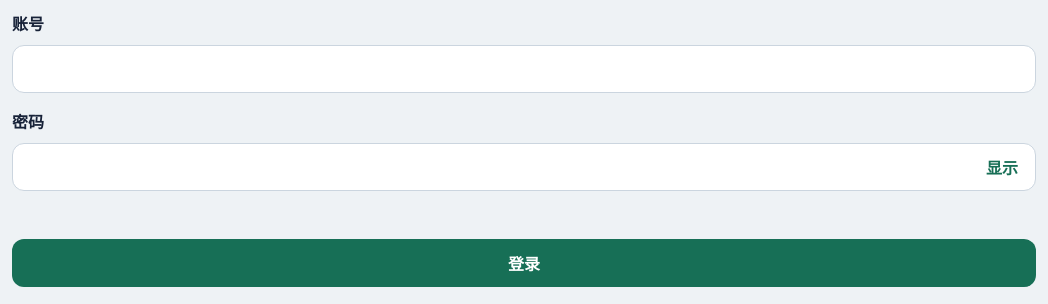
Test: LoginForm › renders the server error for status 401
The image size is (1048, 304).
Type "agent" into the field labelled "账号".
click(524, 69); type("agent")  # box [12,45,1036,93]
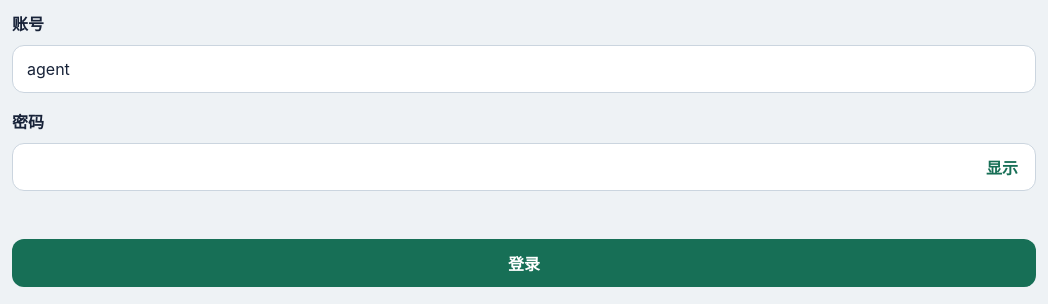
Type "password-123" into the password field labelled "密码".
click(524, 167); type("password-123")  # box [12,143,1036,191]
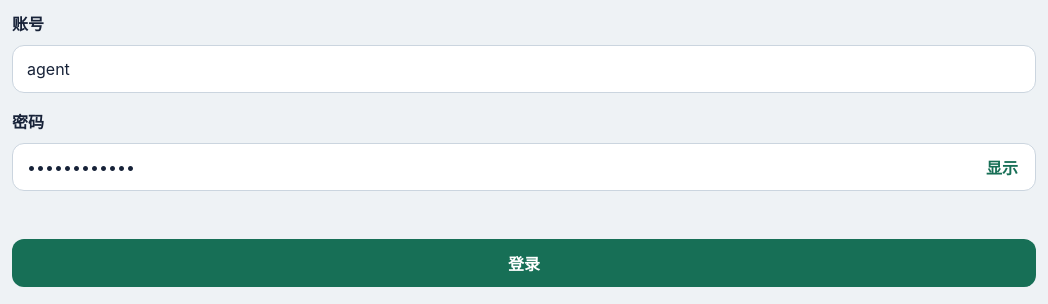
Click the button "登录".
click(524, 263)  # box [12,239,1036,287]
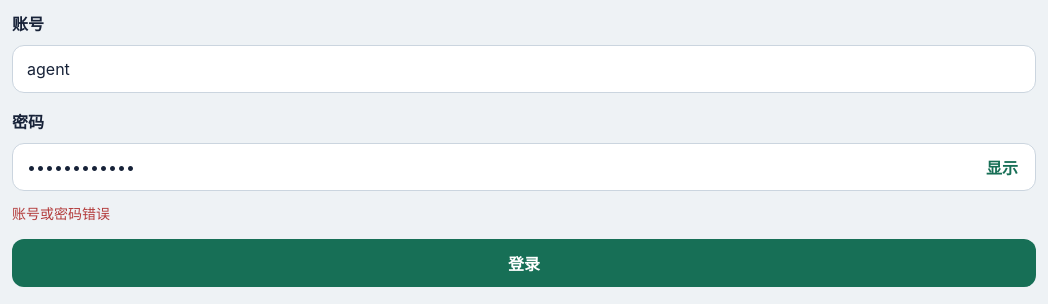
Now the message reads "账号或密码错误", box [12,205,110,222]
